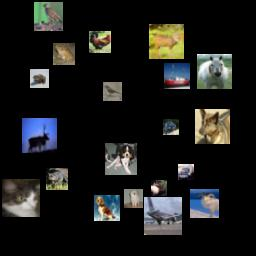airplane: (144, 197, 182, 235)
automobile: (163, 119, 179, 135)
bird: (34, 2, 63, 31), (89, 31, 111, 53), (103, 82, 122, 101)
cat: (2, 179, 40, 217)
deer: (149, 24, 184, 59), (22, 118, 57, 153), (190, 189, 219, 218), (151, 180, 167, 196)
dog: (195, 109, 230, 144), (105, 143, 137, 175), (94, 195, 120, 221), (124, 189, 143, 208)
frog: (46, 168, 68, 190), (53, 43, 75, 65), (30, 69, 49, 88)
ship: (164, 63, 190, 89)
truck: (178, 164, 194, 180)
